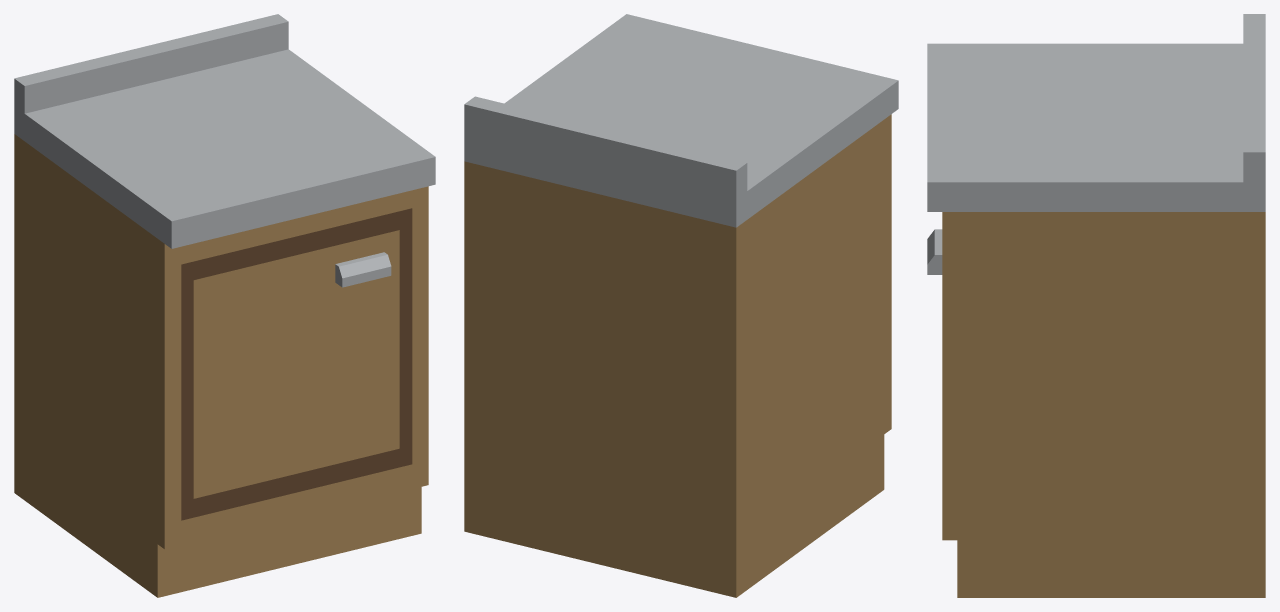
The model's file is base_unit_door.glb.
The picture shows the model from 3 angles, left to right: view 1: azimuth 30°, elevation 25°; view 2: azimuth 150°, elevation 25°; view 3: azimuth 270°, elevation 25°; orthographic projection. The views are drawn at different scales.
Parts seen in each view (by area): view 1: base_unit_door; view 2: base_unit_door; view 3: base_unit_door.
Part boxes in pixels (left/top/right/bottom): base_unit_door: left=14, top=14, right=435, bottom=597; base_unit_door: left=464, top=14, right=898, bottom=597; base_unit_door: left=927, top=14, right=1265, bottom=597.
Bounding box in the file's own units: 0.6 × 0.9 × 0.62.
